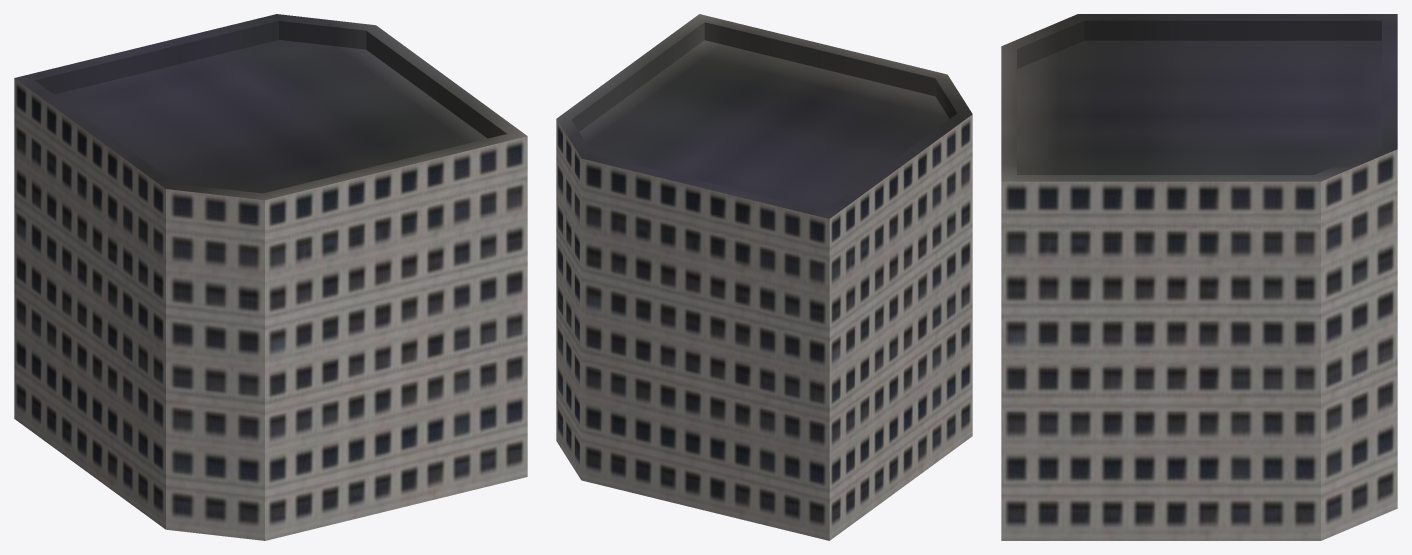
The model's file is Building4.fbx.
3 views of the same model, side by side, from view 1: azimuth 30°, elevation 25°; view 2: azimuth 150°, elevation 25°; view 3: azimuth 270°, elevation 25° (orthographic). The views are drawn at different scales.
Parts seen in each view (by area): view 1: Cube.005; view 2: Cube.005; view 3: Cube.005.
Part boxes in pixels (<box>): Cube.005: <box>14,14,527,540</box>; Cube.005: <box>556,14,972,540</box>; Cube.005: <box>1001,14,1397,540</box>.
Bounding box in the file's own units: 1446 × 1446 × 1446.
1 material, 1 textured.
